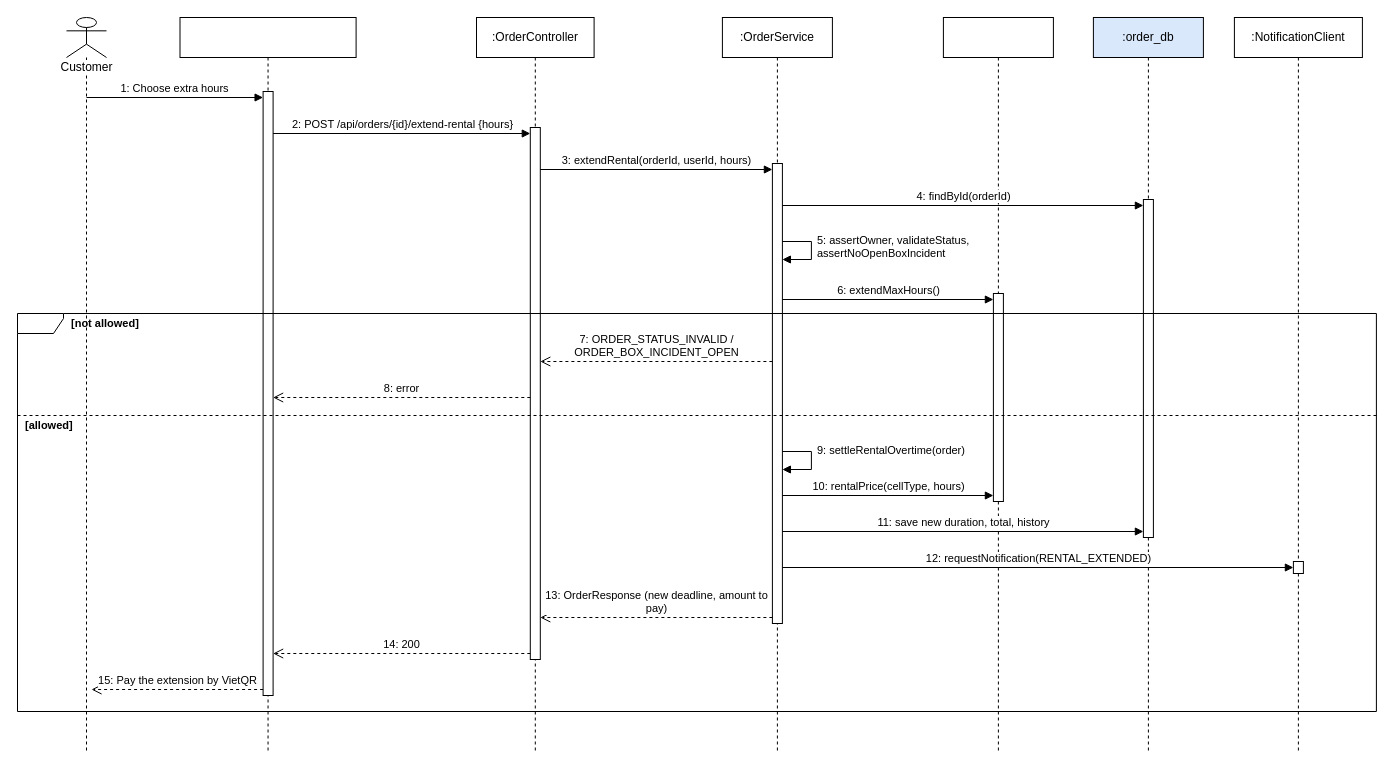
Some shapes in this 1395 by 771 pixel diagram are drawn without their labels. Each missing label, with the box of its shape:
:OrderDetailScreen (Mobile): (179, 16, 356, 754)
:OrderRules: (942, 16, 1053, 754)
alt: (16, 312, 1376, 712)
